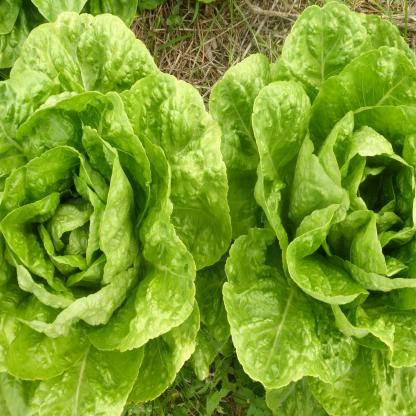--: (2, 0, 233, 416), (196, 0, 416, 416)
